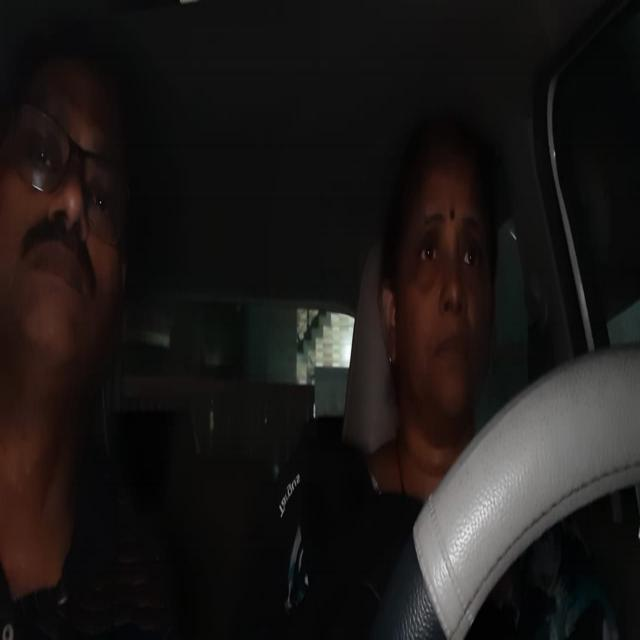person: (0, 32, 134, 405), (375, 109, 509, 443)
